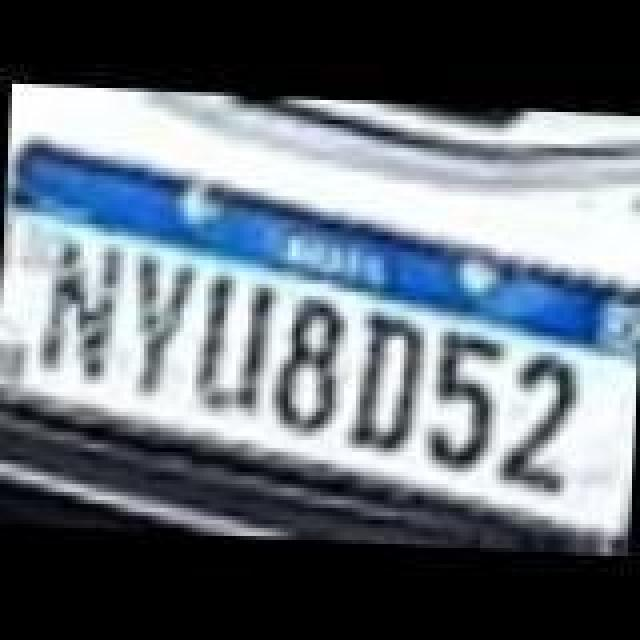2: (500, 350, 588, 498)
5: (426, 328, 502, 472)
8: (272, 296, 352, 440)
D: (348, 310, 428, 458)
N: (34, 236, 126, 388)
U: (188, 268, 276, 420)
Y: (132, 250, 204, 398)
